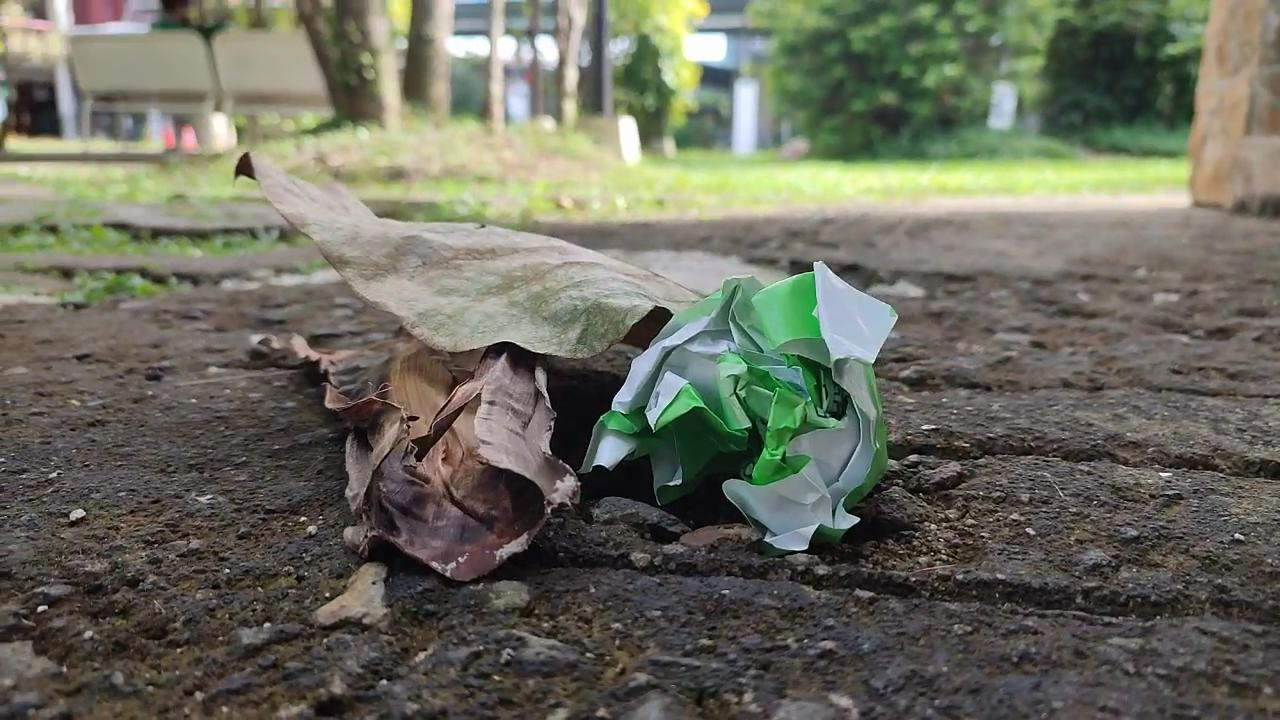Paper: (575, 251, 914, 565)
